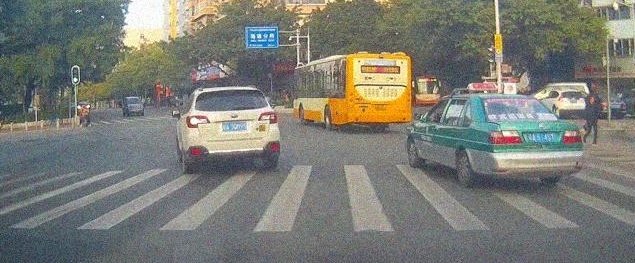L_light: (487, 129, 523, 144), (186, 116, 211, 128), (348, 92, 354, 107)
R_light: (561, 129, 582, 143), (258, 111, 278, 125), (406, 92, 411, 106)
T_light: (504, 98, 519, 102), (223, 90, 237, 93), (377, 58, 385, 61)
day-left: (185, 87, 281, 174)
day-no: (480, 94, 583, 187), (348, 54, 412, 130)
